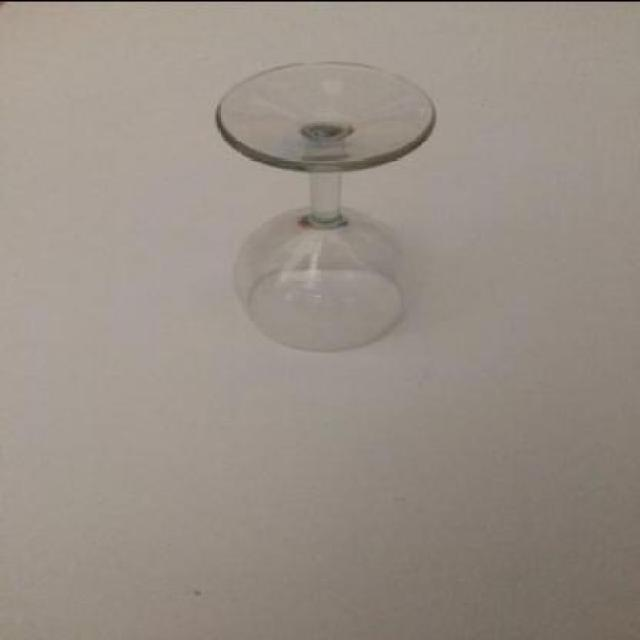glass: (215, 60, 436, 349)
